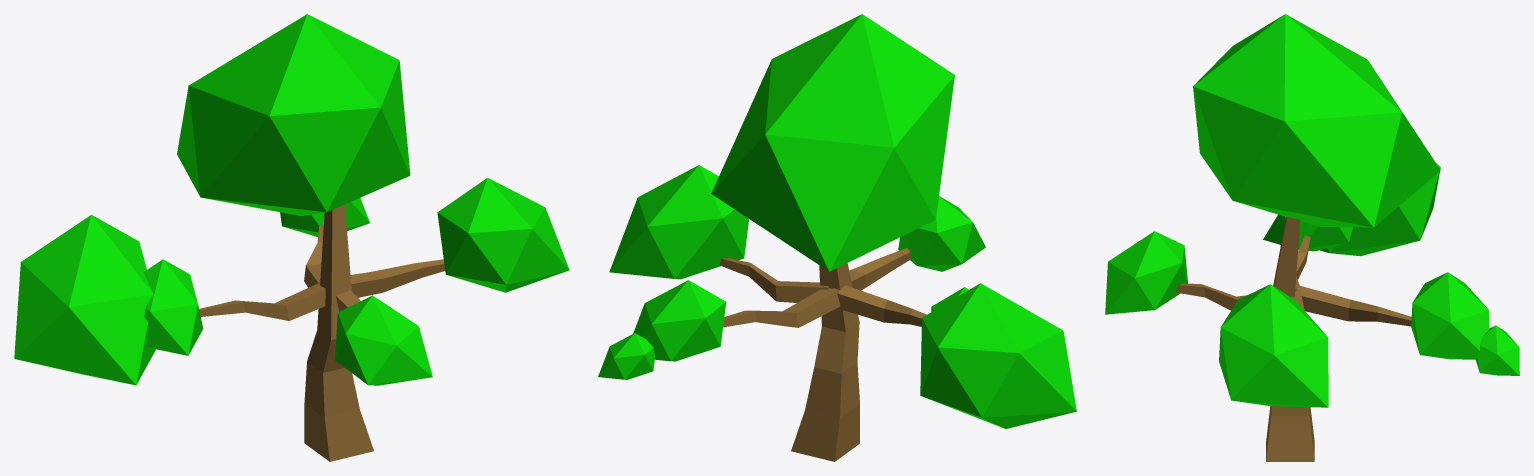
File: tree4.fbx
The picture shows the model from 3 angles, left to right: view 1: azimuth 30°, elevation 25°; view 2: azimuth 150°, elevation 25°; view 3: azimuth 270°, elevation 25°; orthographic projection. The views are drawn at different scales.
Parts seen in each view (by area): view 1: Cube.001; view 2: Cube.001; view 3: Cube.001.
Part boxes in pixels (x1,y1,x2,y2): Cube.001: (14, 14, 569, 461); Cube.001: (598, 14, 1076, 461); Cube.001: (1105, 14, 1519, 461).
Size of the model in its own units: 594 by 515 by 459.
